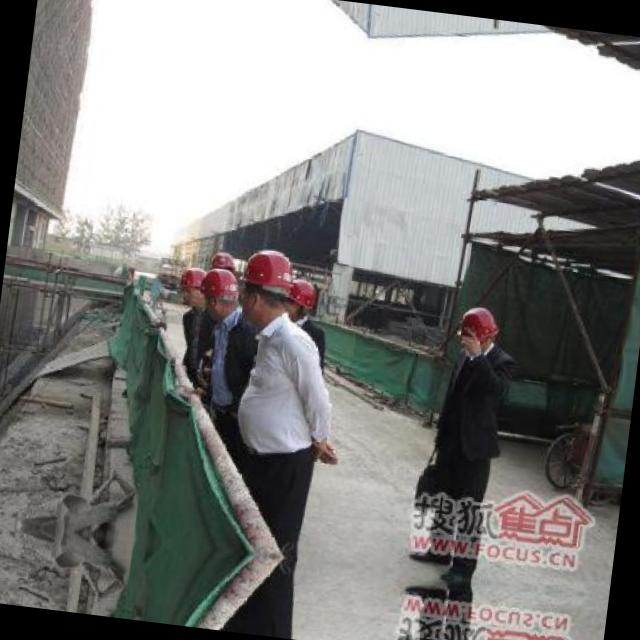helmet: (234, 244, 296, 328), (449, 302, 502, 360), (200, 265, 240, 316), (284, 274, 318, 322), (172, 266, 206, 314)
